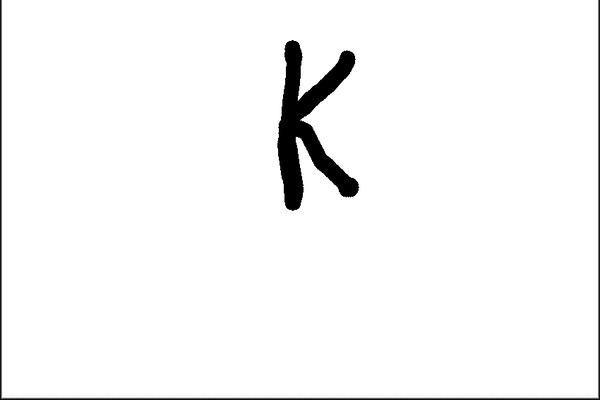K: (268, 33, 366, 212)
